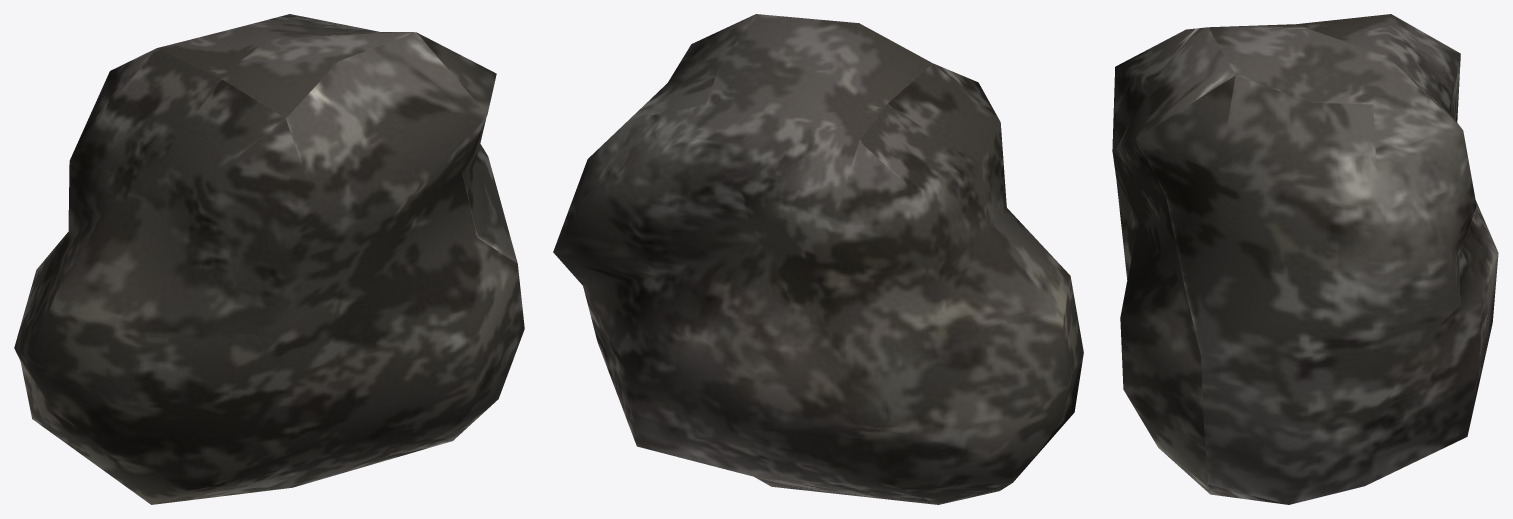
The model's file is Stage_Obj004.fbx.
The picture shows the model from 3 angles, left to right: view 1: azimuth 30°, elevation 25°; view 2: azimuth 150°, elevation 25°; view 3: azimuth 270°, elevation 25°; orthographic projection. The views are drawn at different scales.
Parts seen in each view (by area): view 1: SM_SampleGame_Rock003; view 2: SM_SampleGame_Rock003; view 3: SM_SampleGame_Rock003.
Boxes of the visible parts, x1,y1,x2,y2 form: SM_SampleGame_Rock003: [14, 14, 524, 504]; SM_SampleGame_Rock003: [553, 14, 1083, 504]; SM_SampleGame_Rock003: [1112, 14, 1498, 504].
Bounding box in the file's own units: 54.19 × 47.16 × 37.75.
Materials: 1 (1 with a texture image).
